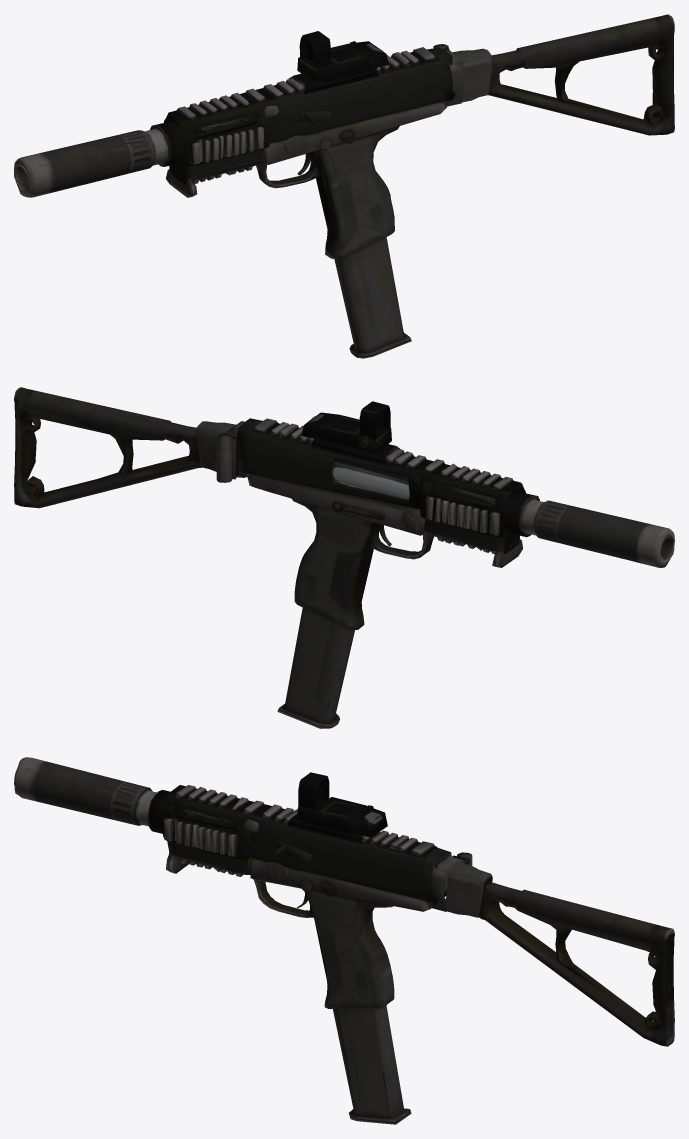
The model's file is Meshy_AI_Suppressed_Submachine_1119011920_texture.glb.
3 views of the same model, one above another, from view 1: azimuth 30°, elevation 25°; view 2: azimuth 150°, elevation 25°; view 3: azimuth 330°, elevation 25° (orthographic).
Parts seen in each view (by area): view 1: geometry_0; view 2: geometry_0; view 3: geometry_0.
Boxes of the visible parts, bbox=[...] form: geometry_0: bbox=[14, 14, 674, 358]; geometry_0: bbox=[14, 387, 674, 728]; geometry_0: bbox=[14, 757, 674, 1124].
Size of the model in its own units: 1 by 0.4845 by 0.0955.
1 material, 1 textured.
